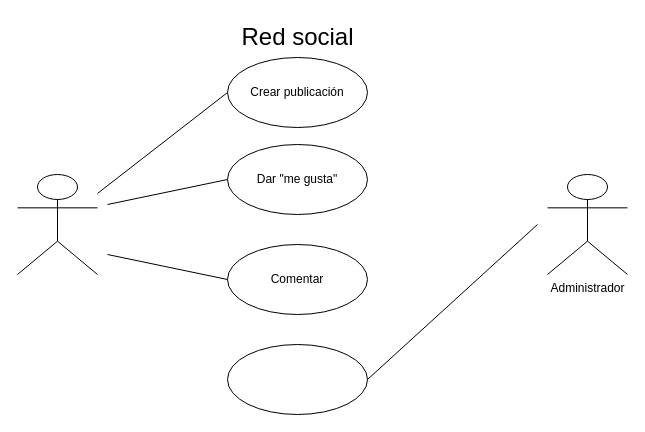
This 645x432 diagram has some shape labels left out. The centre of each missing label's shape, as x and y in pixels:
"Eliminar usuarios" belongs at pixel 297 379.
"Usuario" belongs at pixel 57 224.
